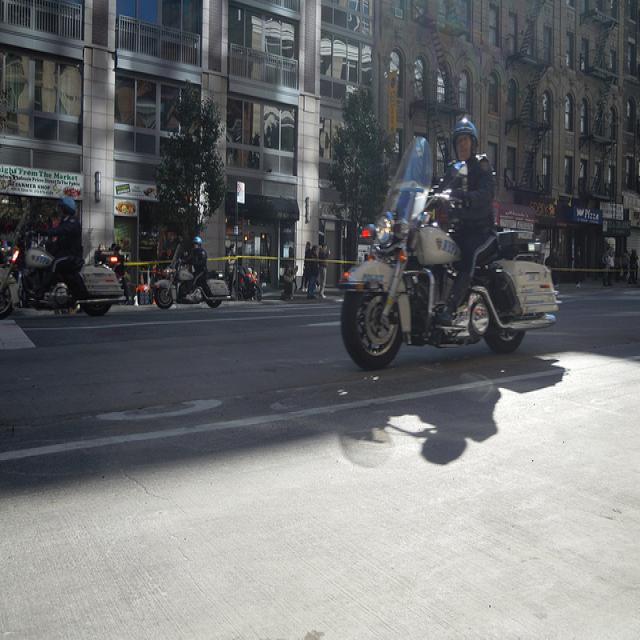motor: (342, 140, 560, 365), (0, 235, 124, 315), (155, 242, 231, 310)
